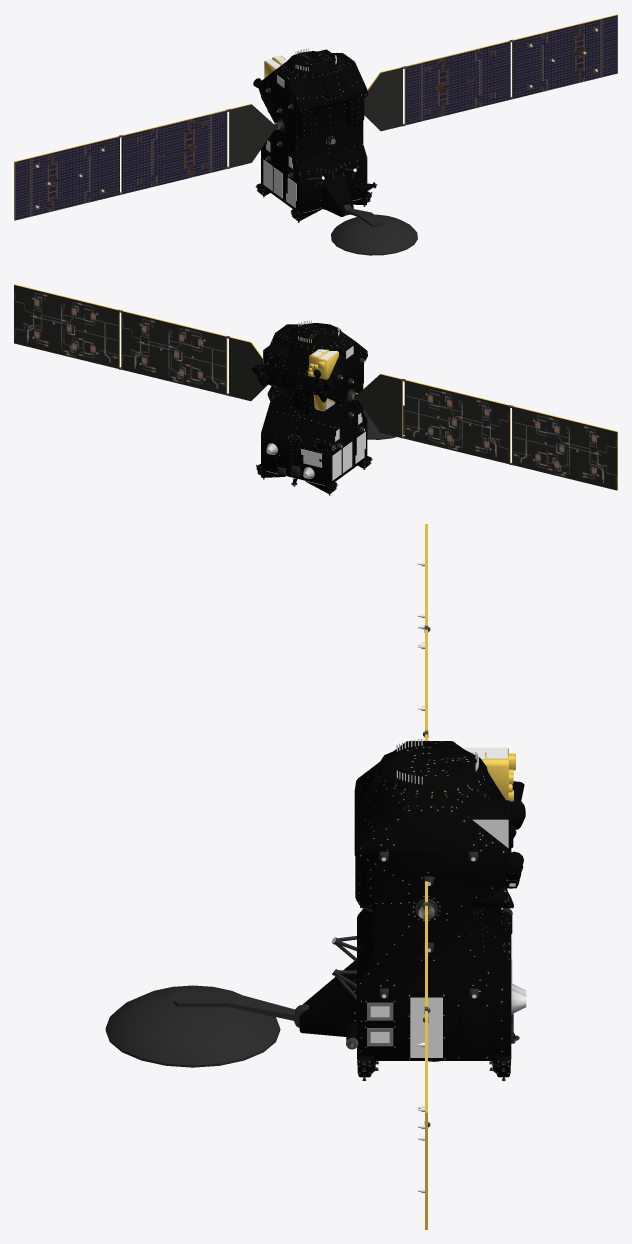
The model's file is trace-gas-orbiter.glb.
3 views of the same model, one above another, from view 1: azimuth 30°, elevation 25°; view 2: azimuth 150°, elevation 25°; view 3: azimuth 270°, elevation 25° (orthographic). The views are drawn at different scales.
Parts seen in each view (by area): view 1: TGO_BUS, right_array_2, left_array_2, left_array_3, right_array_3, HGA_pivot, right_array_1, left_array_1, reflectors; view 2: TGO_BUS, left_array_2, right_array_2, right_array_3, left_array_3, right_array_1, left_array_1, reflectors, HGA_pivot, instruments; view 3: TGO_BUS, HGA_pivot, reflectors.
Part boxes in pixels (x1=…): TGO_BUS: x1=253, y1=49, x2=374, y2=221; right_array_2: x1=121, y1=109, x2=229, y2=194; left_array_2: x1=403, y1=40, x2=511, y2=126; left_array_3: x1=510, y1=14, x2=617, y2=99; right_array_3: x1=14, y1=135, x2=120, y2=220; HGA_pivot: x1=331, y1=204, x2=417, y2=255; right_array_1: x1=228, y1=104, x2=277, y2=168; left_array_1: x1=364, y1=66, x2=403, y2=131; reflectors: x1=263, y1=55, x2=296, y2=207; TGO_BUS: x1=251, y1=323, x2=371, y2=494; left_array_2: x1=121, y1=310, x2=229, y2=395; right_array_2: x1=403, y1=379, x2=510, y2=464; right_array_3: x1=510, y1=405, x2=617, y2=490; left_array_3: x1=14, y1=284, x2=120, y2=369; right_array_1: x1=354, y1=374, x2=403, y2=438; left_array_1: x1=228, y1=336, x2=267, y2=401; reflectors: x1=263, y1=346, x2=365, y2=480; HGA_pivot: x1=363, y1=405, x2=404, y2=439; instruments: x1=256, y1=443, x2=372, y2=495; TGO_BUS: x1=299, y1=741, x2=525, y2=1077; HGA_pivot: x1=105, y1=985, x2=309, y2=1067; reflectors: x1=370, y1=747, x2=515, y2=1057.
Size of the model in its own units: 17.53 by 4.13 by 5.3.
Materials: 12 (3 with a texture image).
